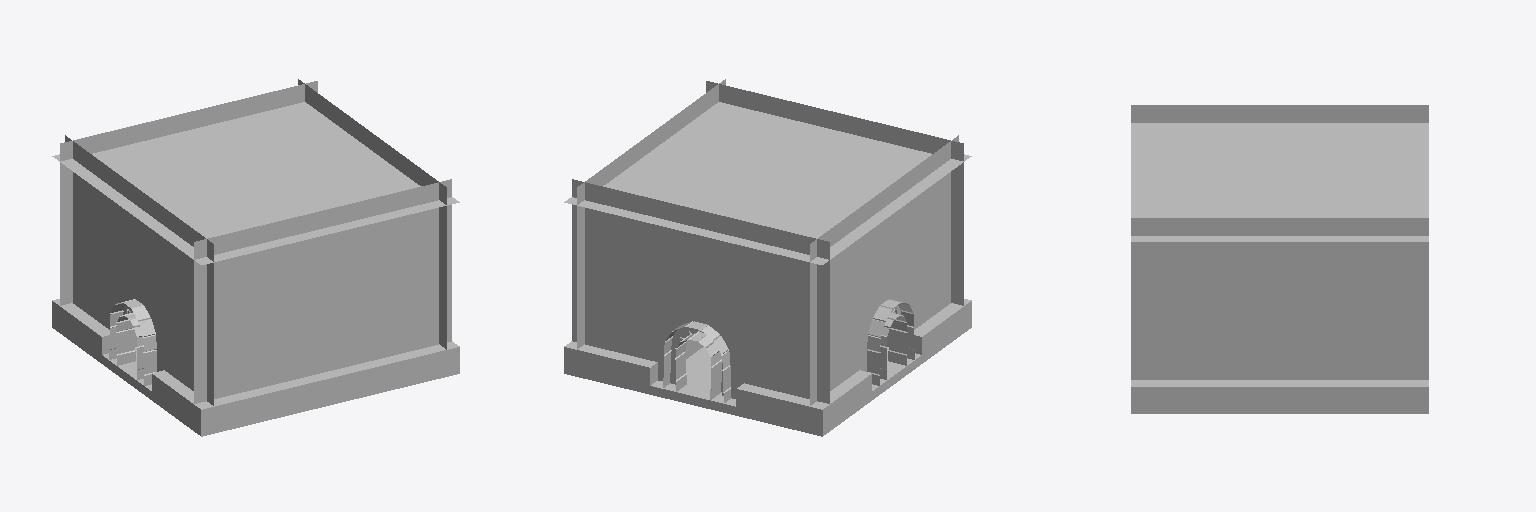
File: corner.obj
3 views of the same model, side by side, from view 1: azimuth 30°, elevation 25°; view 2: azimuth 150°, elevation 25°; view 3: azimuth 270°, elevation 25° (orthographic).
Parts seen in each view (by area): view 1: struct_wall_main_half_8, struct_ceiling_1, open_block_18, struct_wall_main_half_5, struct_wall_main_half_4, struct_wall_main_half_24, struct_door_0, block_default_0, struct_wall_main_half_12, struct_wall_main_half_7, open_block_19, struct_wall_main_half_22; view 2: struct_ceiling_1, struct_wall_main_half_24, struct_door_1, struct_wall_main_half_4, struct_wall_main_half_8, struct_wall_main_half_22, struct_wall_main_half_23, struct_wall_main_half_5, block_default_0, struct_door_0, struct_wall_main_half_12, struct_wall_main_half_7 (+3 smaller); view 3: struct_wall_main_half_7, struct_ceiling_1, open_block_20, block_default_0, open_block_18, struct_wall_main_half_12, struct_wall_main_half_4, struct_wall_main_half_5.
Boxes of the visible parts, x1=… form: struct_wall_main_half_8: x1=194, y1=179, x2=451, y2=403; struct_ceiling_1: x1=52, y1=102, x2=459, y2=264; open_block_18: x1=152, y1=341, x2=459, y2=427; struct_wall_main_half_5: x1=65, y1=135, x2=114, y2=329; struct_wall_main_half_4: x1=165, y1=209, x2=213, y2=405; struct_wall_main_half_24: x1=60, y1=81, x2=317, y2=233; struct_door_0: x1=109, y1=262, x2=164, y2=385; block_default_0: x1=52, y1=319, x2=459, y2=436; struct_wall_main_half_12: x1=115, y1=172, x2=164, y2=297; struct_wall_main_half_7: x1=298, y1=79, x2=446, y2=349; open_block_19: x1=52, y1=299, x2=136, y2=354; struct_wall_main_half_22: x1=60, y1=231, x2=72, y2=305; struct_ceiling_1: x1=564, y1=102, x2=971, y2=264; struct_wall_main_half_24: x1=572, y1=179, x2=829, y2=331; struct_door_1: x1=658, y1=290, x2=743, y2=402; struct_wall_main_half_4: x1=909, y1=135, x2=958, y2=329; struct_wall_main_half_8: x1=706, y1=81, x2=963, y2=305; struct_wall_main_half_22: x1=744, y1=311, x2=829, y2=403; struct_wall_main_half_23: x1=572, y1=269, x2=657, y2=361; struct_wall_main_half_5: x1=810, y1=209, x2=858, y2=405; block_default_0: x1=564, y1=319, x2=971, y2=436; struct_door_0: x1=859, y1=262, x2=914, y2=385; struct_wall_main_half_12: x1=859, y1=172, x2=908, y2=297; struct_wall_main_half_7: x1=577, y1=79, x2=725, y2=349; struct_wall_main_half_7: x1=1131, y1=218, x2=1428, y2=379; struct_ceiling_1: x1=1131, y1=123, x2=1428, y2=241; open_block_20: x1=1230, y1=380, x2=1428, y2=404; block_default_0: x1=1131, y1=405, x2=1428, y2=413; open_block_18: x1=1131, y1=380, x2=1229, y2=404; struct_wall_main_half_12: x1=1230, y1=105, x2=1329, y2=122; struct_wall_main_half_4: x1=1131, y1=105, x2=1229, y2=122; struct_wall_main_half_5: x1=1330, y1=105, x2=1428, y2=122.
Bounding box in the file's own units: 3 × 2.1 × 3.